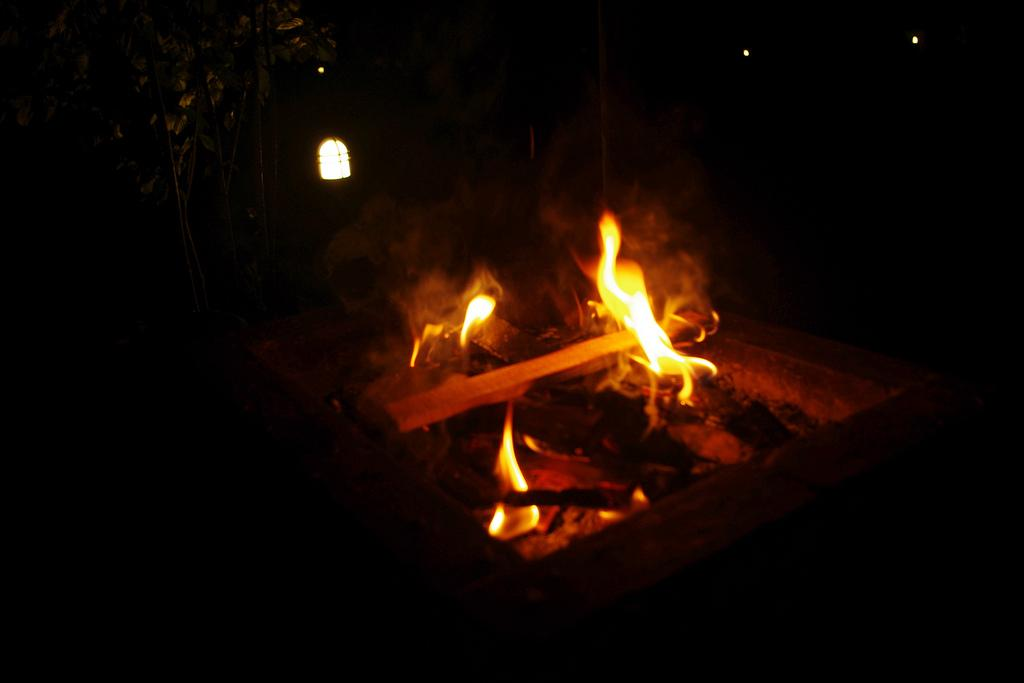fire: (623, 268, 677, 372), (455, 290, 492, 332)
